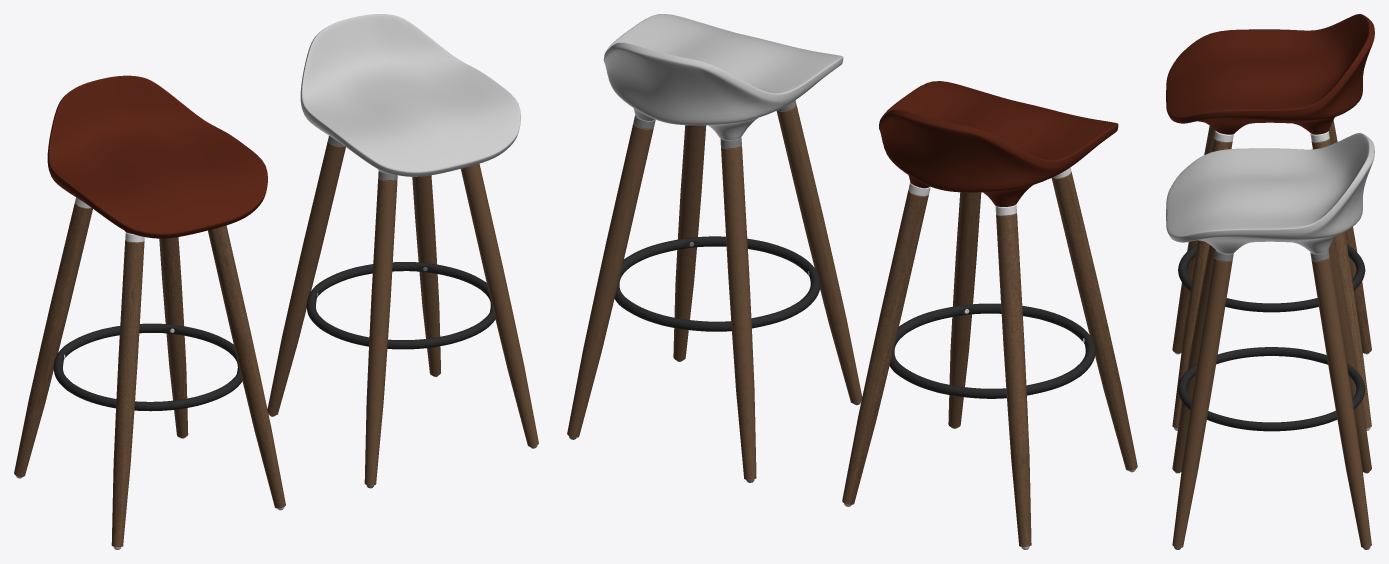
The model's file is كرسي بار(قايمه اكسسوارات ديكور).glb.
The picture shows the model from 3 angles, left to right: view 1: azimuth 30°, elevation 25°; view 2: azimuth 150°, elevation 25°; view 3: azimuth 270°, elevation 25°; orthographic projection. The views are drawn at different scales.
Visible parts, largest first — view 1: Geom3D_3DGeom~1_Defintion_3DGeom~1, Geom3D_3DGeom~5_Defintion_3DGeom~5, Geom3D, Geom3D_3DGeom~6_Defintion_3DGeom~6, Geom3D_3DGeom~7_Defintion_3DGeom~7, Geom3D_3DGeom~3_Defintion_3DGeom~3; view 2: Geom3D_3DGeom~6_Defintion_3DGeom~6, Geom3D, Geom3D_3DGeom~1_Defintion_3DGeom~1, Geom3D_3DGeom~5_Defintion_3DGeom~5, Geom3D_3DGeom~7_Defintion_3DGeom~7, Geom3D_3DGeom~3_Defintion_3DGeom~3; view 3: Geom3D_3DGeom~5_Defintion_3DGeom~5, Geom3D_3DGeom~1_Defintion_3DGeom~1, Geom3D_3DGeom~6_Defintion_3DGeom~6, Geom3D, Geom3D_3DGeom~7_Defintion_3DGeom~7, Geom3D_3DGeom~3_Defintion_3DGeom~3, Geom3D_3DGeom~8_Defintion_3DGeom~8, Geom3D_3DGeom~4_Defintion_3DGeom~4.
Boxes of the visible parts, x1=… form: Geom3D_3DGeom~1_Defintion_3DGeom~1: x1=47, y1=75, x2=267, y2=238; Geom3D_3DGeom~5_Defintion_3DGeom~5: x1=300, y1=14, x2=520, y2=176; Geom3D: x1=14, y1=202, x2=285, y2=547; Geom3D_3DGeom~6_Defintion_3DGeom~6: x1=267, y1=140, x2=538, y2=485; Geom3D_3DGeom~7_Defintion_3DGeom~7: x1=306, y1=262, x2=495, y2=349; Geom3D_3DGeom~3_Defintion_3DGeom~3: x1=53, y1=323, x2=242, y2=411; Geom3D_3DGeom~6_Defintion_3DGeom~6: x1=567, y1=104, x2=862, y2=479; Geom3D: x1=842, y1=171, x2=1137, y2=546; Geom3D_3DGeom~1_Defintion_3DGeom~1: x1=879, y1=81, x2=1118, y2=206; Geom3D_3DGeom~5_Defintion_3DGeom~5: x1=603, y1=14, x2=843, y2=139; Geom3D_3DGeom~7_Defintion_3DGeom~7: x1=614, y1=236, x2=820, y2=331; Geom3D_3DGeom~3_Defintion_3DGeom~3: x1=889, y1=303, x2=1095, y2=398; Geom3D_3DGeom~5_Defintion_3DGeom~5: x1=1166, y1=133, x2=1374, y2=253; Geom3D_3DGeom~1_Defintion_3DGeom~1: x1=1166, y1=14, x2=1374, y2=134; Geom3D_3DGeom~6_Defintion_3DGeom~6: x1=1172, y1=239, x2=1371, y2=547; Geom3D: x1=1172, y1=120, x2=1371, y2=428; Geom3D_3DGeom~7_Defintion_3DGeom~7: x1=1178, y1=347, x2=1365, y2=431; Geom3D_3DGeom~3_Defintion_3DGeom~3: x1=1178, y1=244, x2=1365, y2=312; Geom3D_3DGeom~8_Defintion_3DGeom~8: x1=1174, y1=250, x2=1370, y2=549; Geom3D_3DGeom~4_Defintion_3DGeom~4: x1=1174, y1=131, x2=1370, y2=430.
Size of the model in its own units: 1.05 by 0.8931 by 0.4646.
Materials: 5 (1 with a texture image).
